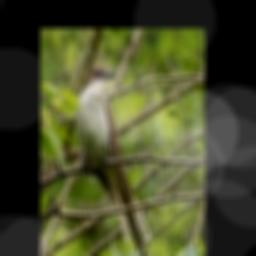Cuckoo: (75, 63, 151, 256)
